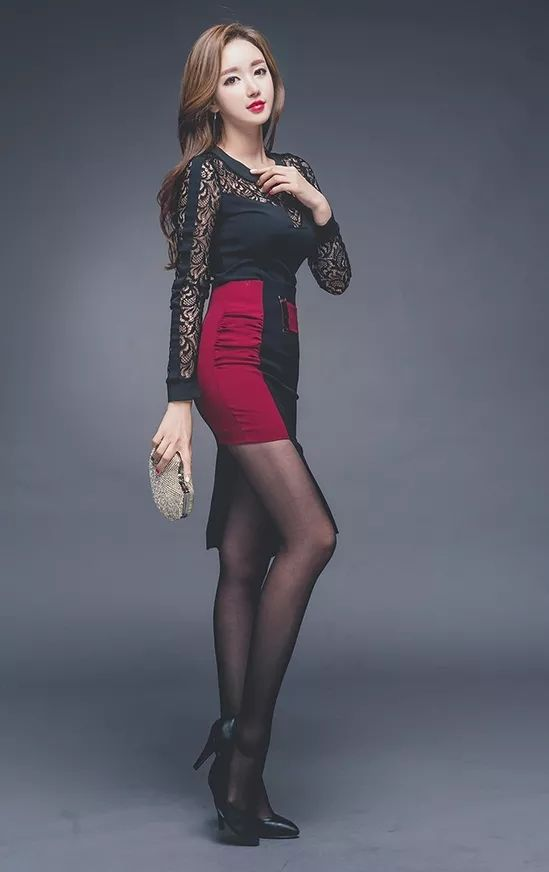person: (117, 24, 424, 736)
